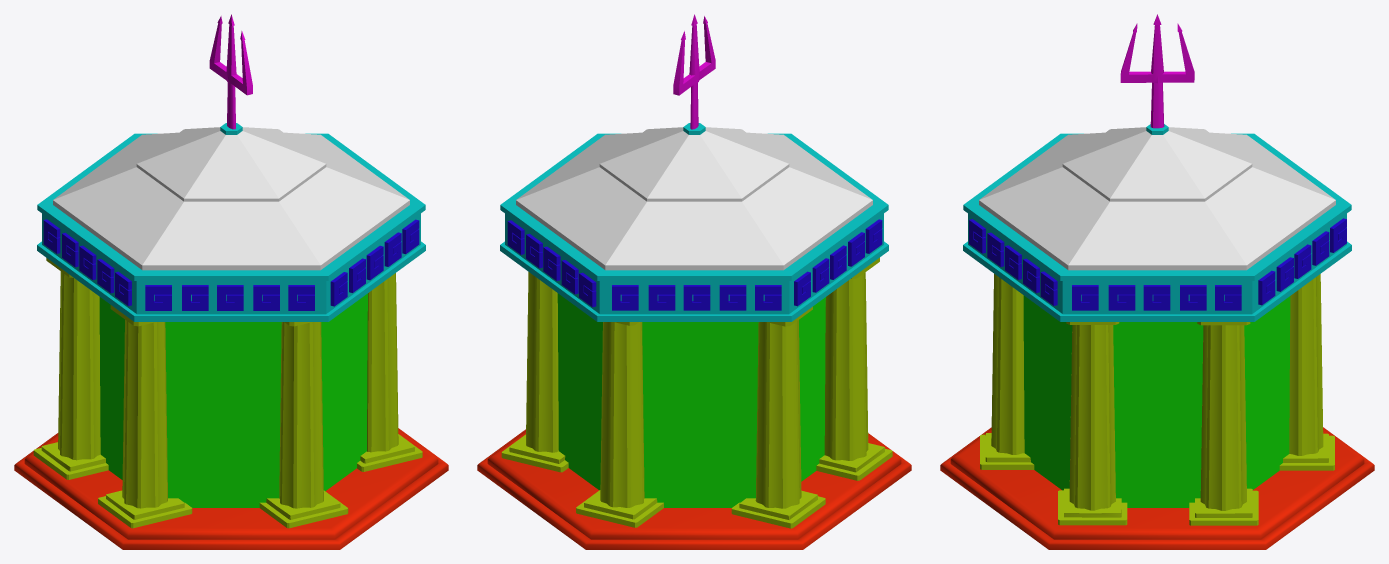
The model's file is FishbowlLevel3.fbx.
3 renders of one model, left to right at view 1: azimuth 30°, elevation 25°; view 2: azimuth 150°, elevation 25°; view 3: azimuth 270°, elevation 25°, orthographic.
Visible parts, largest first — view 1: Roof, Columns, Fishbowl, Base; view 2: Roof, Columns, Fishbowl, Base; view 3: Roof, Columns, Fishbowl, Base.
Boxes of the visible parts, <box> form: Roof: <box>37,14,425,321</box>; Columns: <box>33,258,422,528</box>; Fishbowl: <box>99,293,367,507</box>; Base: <box>14,428,448,549</box>; Roof: <box>500,14,888,321</box>; Columns: <box>501,257,892,528</box>; Fishbowl: <box>557,293,825,507</box>; Base: <box>477,429,911,549</box>; Roof: <box>963,14,1351,321</box>; Columns: <box>980,274,1334,525</box>; Fishbowl: <box>1023,295,1290,507</box>; Base: <box>940,427,1374,549</box>.
Size of the model in its own units: 327 by 438 by 377.
